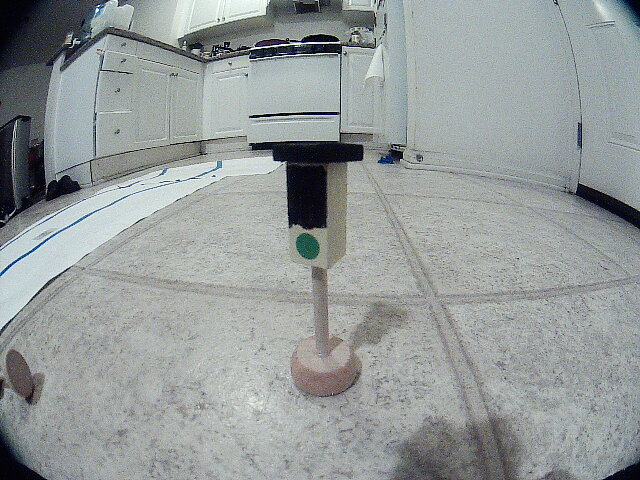Green Traffic Light: (250, 138, 392, 298)
